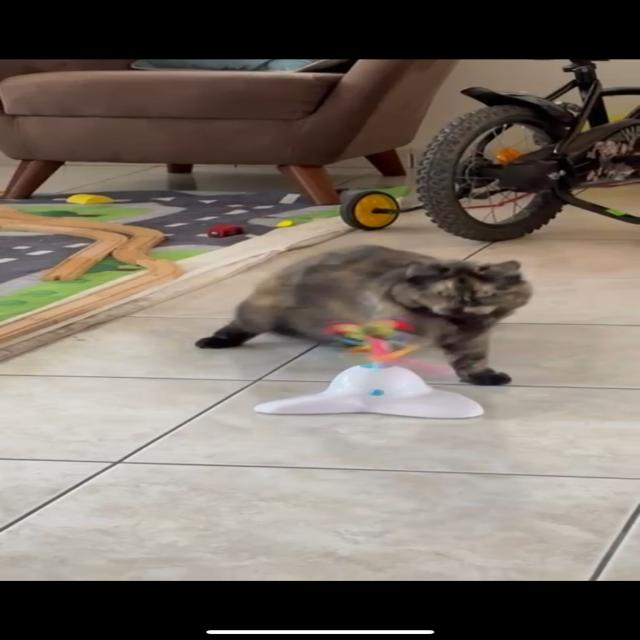authorized: (194, 243, 532, 386)
